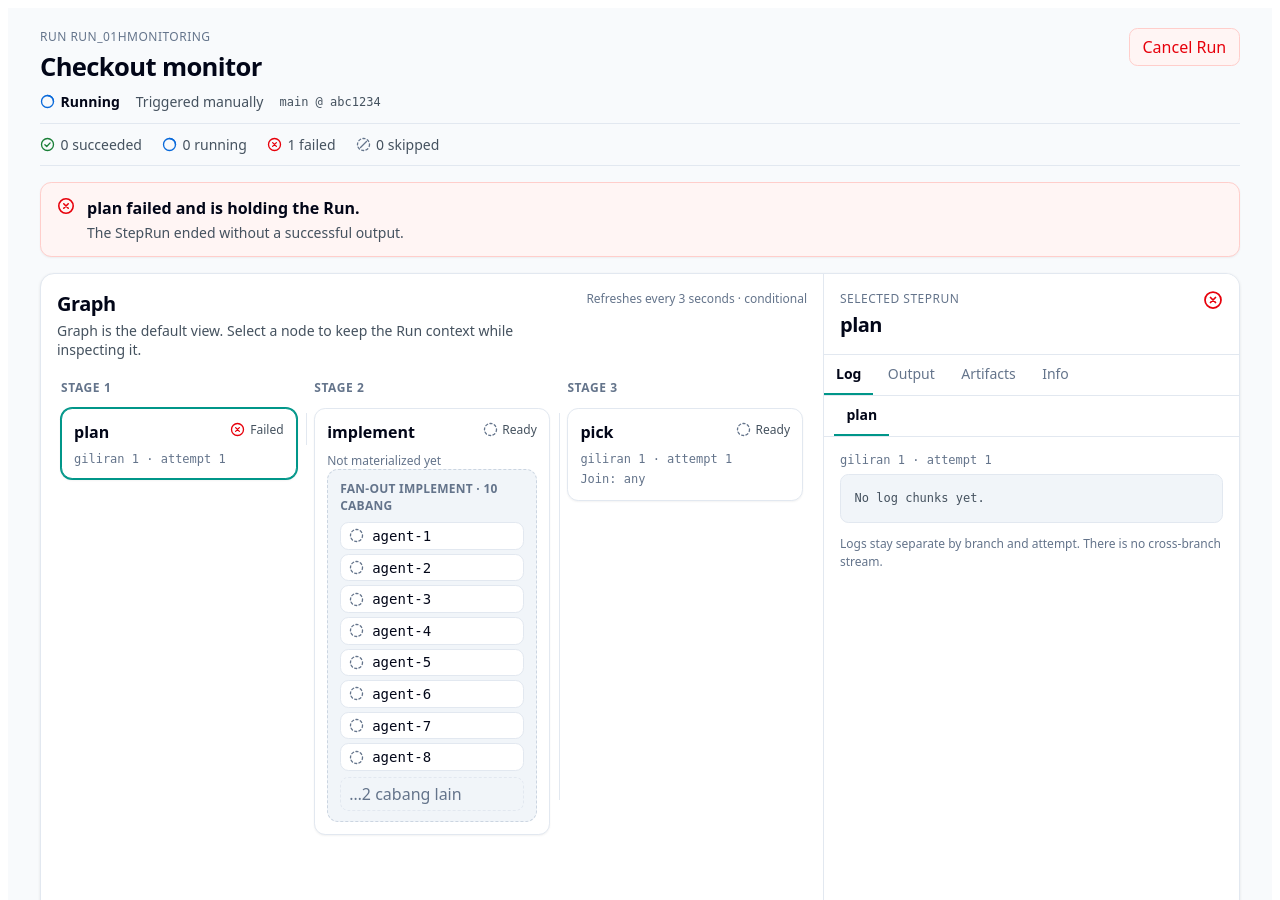
Test case: RunScreen › renders the focused StepRun's cost — total and per-attempt breakdown — through the Info tab
The width and height of the screenshot is (1280, 900).
Click the tab "Info": click(1055, 375) x1=1030 y1=355 x2=1081 y2=395
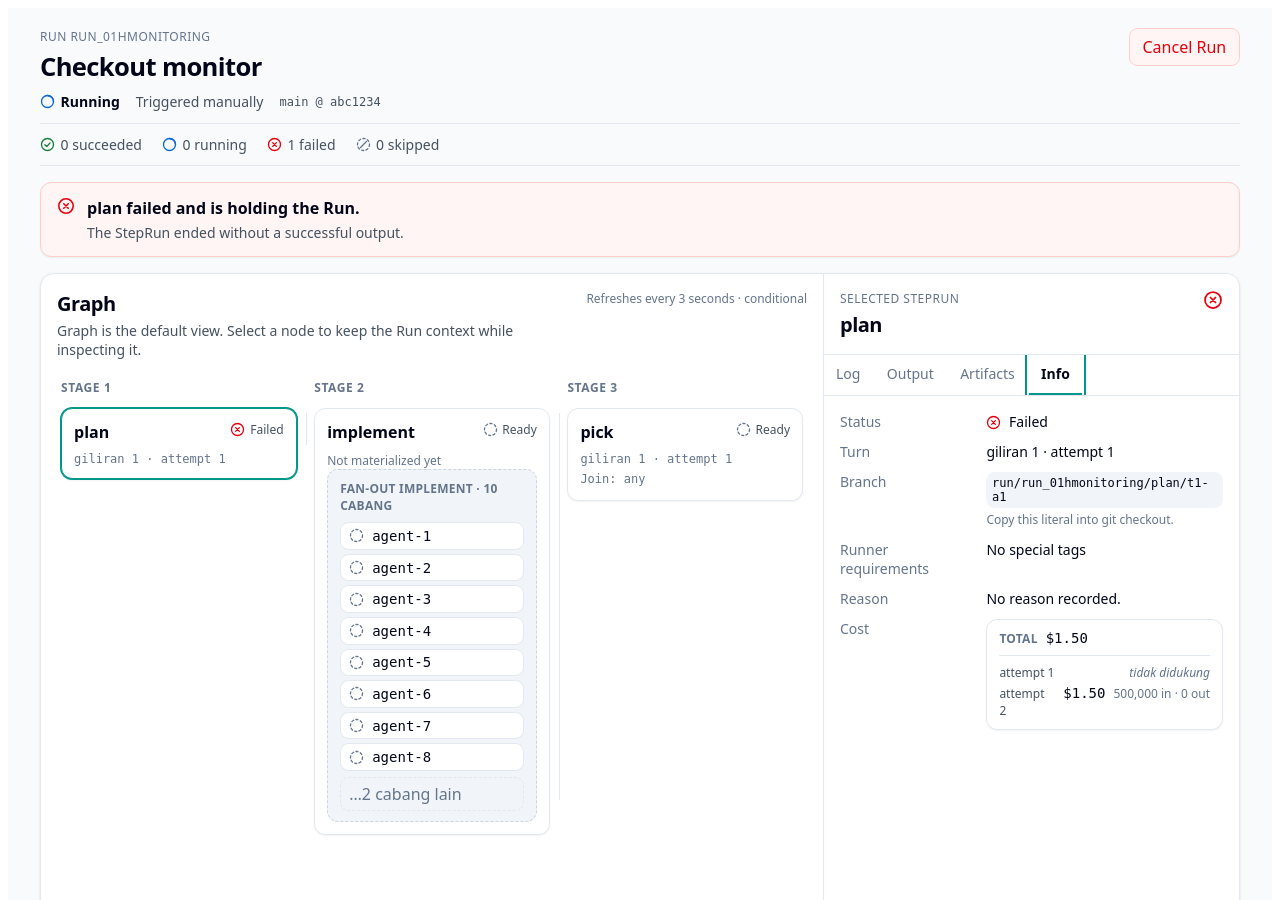
Check: the text "attempt 1" is shown, box x1=999 y1=664 x2=1054 y2=681
Check: the text "attempt 2" is shown, box x1=999 y1=685 x2=1051 y2=719
Check: the text "tidak didukung" is shown, box x1=1129 y1=664 x2=1210 y2=681
